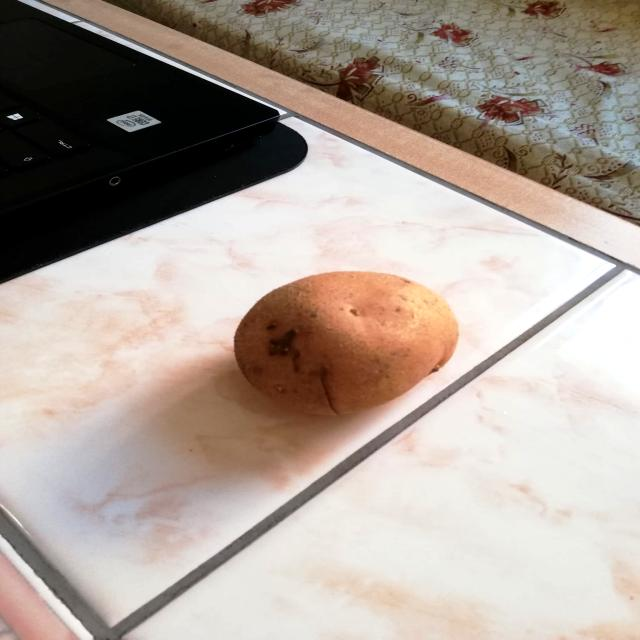potato: (229, 266, 472, 418)
